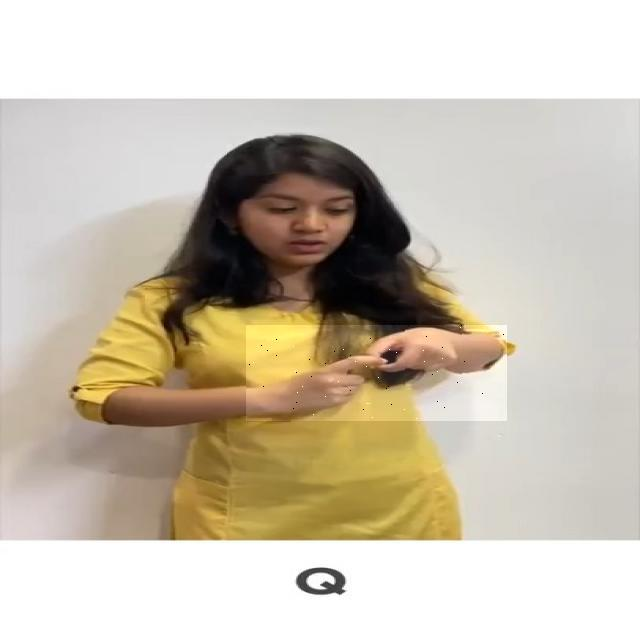Q: (246, 325, 507, 421)
